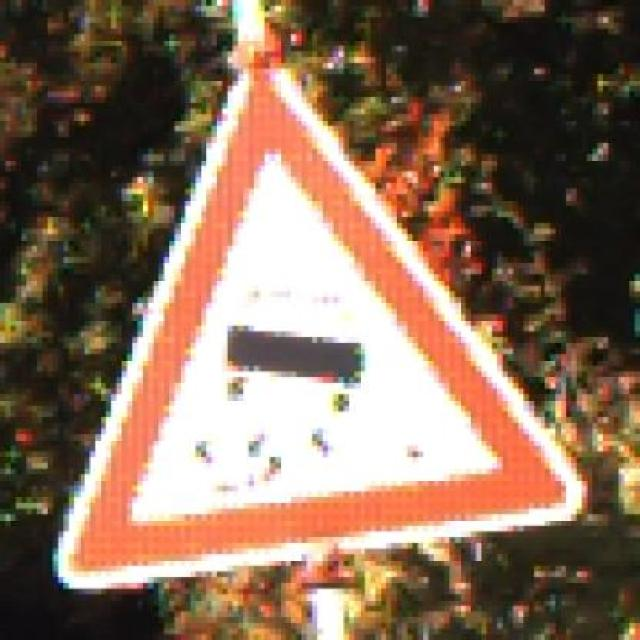Slippery Road Ahead: (48, 75, 588, 594)
